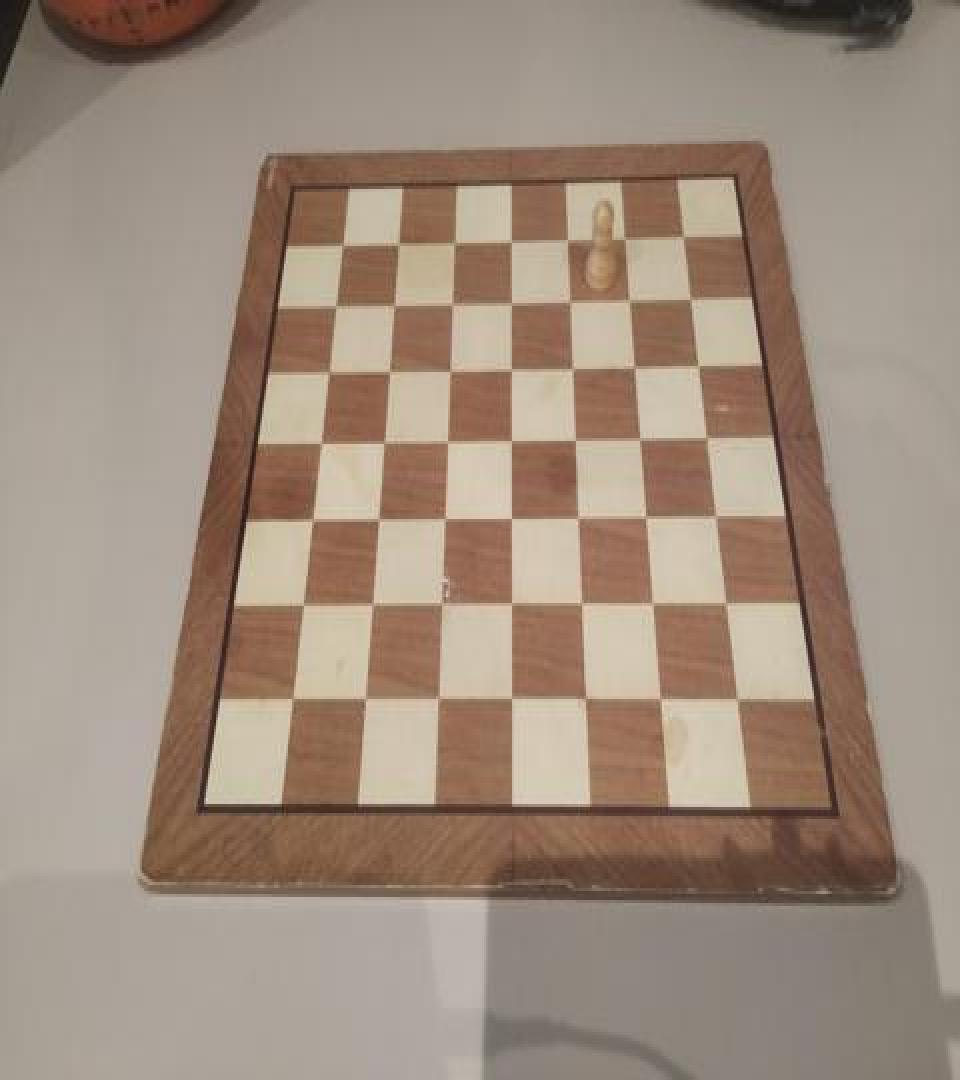xcorner: (636, 499, 656, 530), (559, 280, 579, 311), (443, 223, 463, 254), (427, 687, 447, 717), (501, 687, 521, 717), (576, 686, 596, 716), (651, 684, 671, 714), (727, 684, 747, 714), (292, 594, 312, 624), (361, 592, 381, 622), (431, 591, 451, 621), (501, 590, 521, 620), (572, 588, 592, 618), (715, 585, 735, 615), (301, 507, 321, 537), (367, 506, 387, 536), (434, 504, 454, 534), (501, 502, 521, 532), (568, 501, 588, 531), (705, 498, 725, 528), (310, 429, 330, 459), (373, 426, 393, 456), (436, 424, 456, 454), (500, 423, 520, 453), (565, 422, 585, 452), (630, 418, 650, 448), (695, 417, 715, 447), (318, 356, 338, 386), (378, 354, 398, 384), (439, 352, 459, 382), (500, 350, 520, 380), (562, 348, 582, 378), (624, 346, 644, 376), (686, 344, 706, 374), (325, 290, 345, 320), (383, 288, 403, 318), (441, 285, 461, 315), (500, 284, 520, 314), (619, 279, 639, 309), (678, 276, 698, 306), (332, 230, 352, 260), (387, 226, 407, 256), (500, 222, 520, 252), (556, 219, 576, 249), (614, 218, 634, 248), (671, 214, 691, 244), (281, 689, 301, 718), (354, 689, 374, 718), (643, 587, 663, 616)
